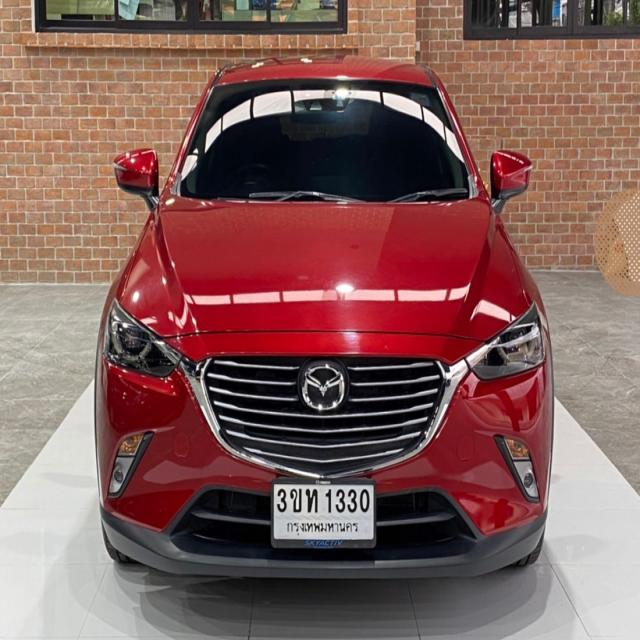license_plate: (269, 477, 381, 554)
